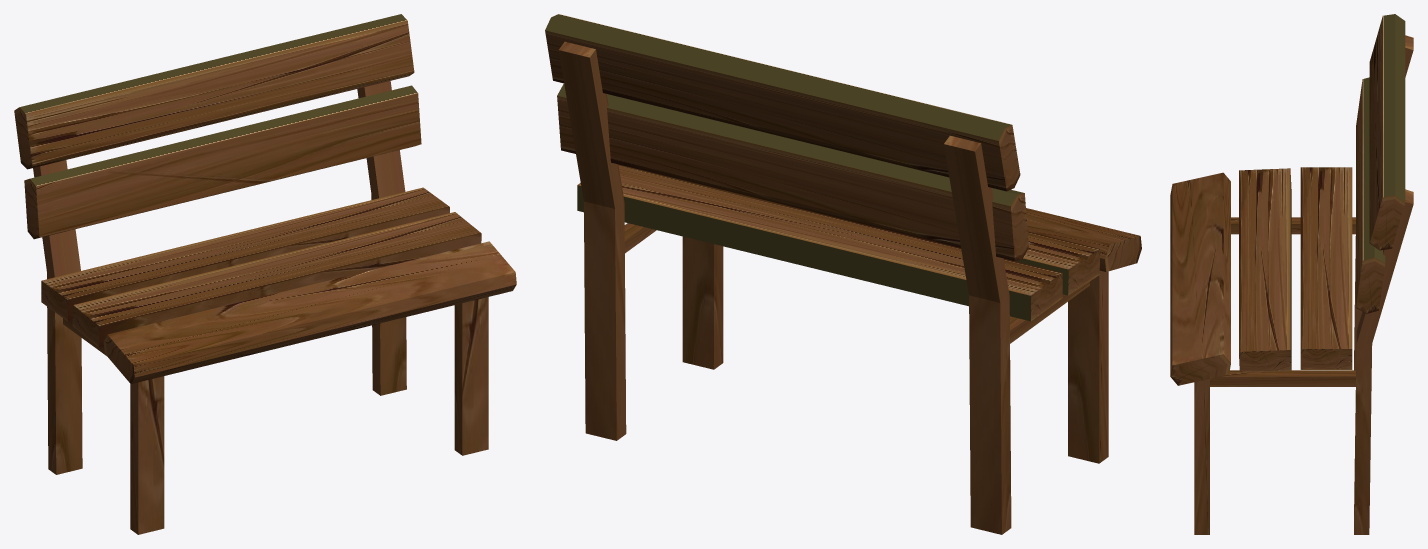
The model's file is bench.fbx.
3 views of the same model, side by side, from view 1: azimuth 30°, elevation 25°; view 2: azimuth 150°, elevation 25°; view 3: azimuth 270°, elevation 25° (orthographic). The views are drawn at different scales.
Visible parts, largest first — view 1: Cube.009, Cube.012, Cube.013, Cube.011, Cube.010, Cube.014, Cube.015; view 2: Cube.014, Cube.009, Cube.012, Cube.010, Cube.015, Cube.013, Cube.011, Cube.016; view 3: Cube.013, Cube.010, Cube.011, Cube.009, Cube.014, Cube.012, Cube.016, Cube.015.
Boxes of the visible parts, x1=… form: Cube.009: x1=14, y1=14, x2=414, y2=169; Cube.012: x1=24, y1=85, x2=421, y2=239; Cube.013: x1=103, y1=241, x2=516, y2=383; Cube.011: x1=72, y1=212, x2=481, y2=347; Cube.010: x1=41, y1=187, x2=449, y2=321; Cube.014: x1=33, y1=81, x2=406, y2=474; Cube.015: x1=130, y1=297, x2=488, y2=534; Cube.014: x1=558, y1=41, x2=1011, y2=534; Cube.009: x1=545, y1=14, x2=1020, y2=191; Cube.012: x1=557, y1=84, x2=1028, y2=260; Cube.010: x1=577, y1=164, x2=1062, y2=321; Cube.015: x1=682, y1=236, x2=1108, y2=463; Cube.013: x1=1026, y1=208, x2=1141, y2=271; Cube.011: x1=1015, y1=231, x2=1100, y2=295; Cube.016: x1=624, y1=223, x2=1089, y2=343; Cube.013: x1=1170, y1=172, x2=1230, y2=385; Cube.010: x1=1300, y1=167, x2=1352, y2=369; Cube.011: x1=1239, y1=168, x2=1291, y2=372; Cube.009: x1=1369, y1=14, x2=1405, y2=250; Cube.014: x1=1354, y1=35, x2=1413, y2=534; Cube.012: x1=1356, y1=77, x2=1385, y2=313; Cube.016: x1=1210, y1=217, x2=1355, y2=386; Cube.015: x1=1194, y1=379, x2=1209, y2=534.
Bounding box in the file's own units: 201 × 179 × 114.
1 material, 1 textured.
